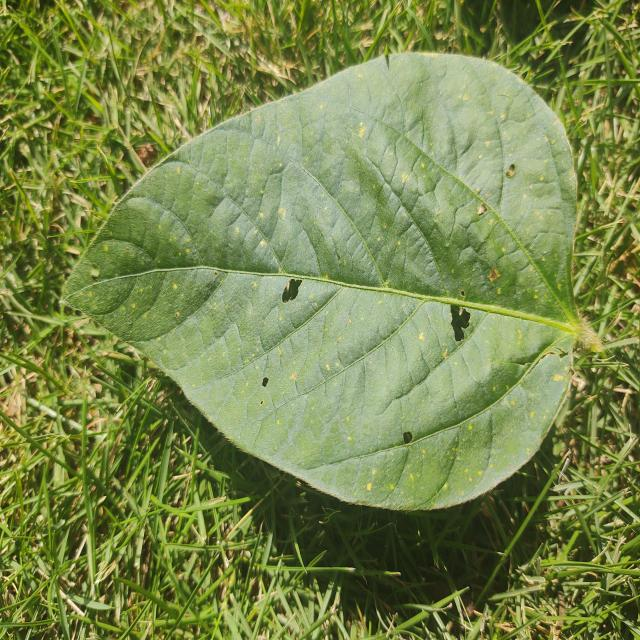Soybean: (61, 52, 591, 515)
downey_mildew: (286, 301, 432, 479), (484, 71, 582, 321), (430, 337, 580, 490), (331, 390, 502, 511), (211, 264, 332, 362), (433, 62, 502, 233), (350, 134, 425, 277), (308, 281, 409, 378), (271, 162, 342, 294), (299, 425, 413, 507), (187, 127, 264, 244), (513, 225, 590, 329), (120, 220, 195, 323), (122, 263, 216, 334), (436, 411, 495, 500), (397, 428, 458, 504), (458, 354, 529, 414), (148, 205, 205, 274), (103, 197, 164, 256), (79, 269, 138, 315)
